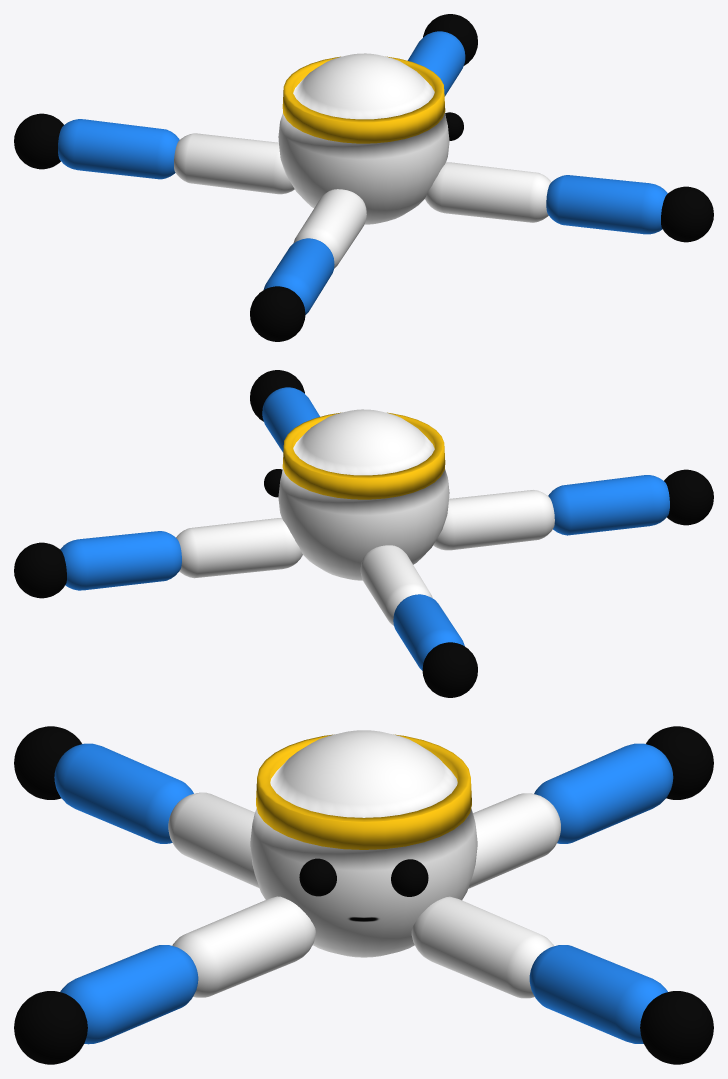
Rendered from smallCrawler.fbx.
3 renders of one model, top to bottom at view 1: azimuth 30°, elevation 25°; view 2: azimuth 150°, elevation 25°; view 3: azimuth 270°, elevation 25°, orthographic. The views are drawn at different scales.
Parts seen in each view (by area): view 1: Head.001, Thigh4.001, Shin1.001, Shin4.001, Thigh1.001, Thigh3.001, Shin3.001, Foot3.001, Foot4.001, Foot1.001, Shin2.001, Foot2.001; view 2: Head.001, Thigh2.001, Shin3.001, Shin2.001, Thigh3.001, Thigh1.001, Shin1.001, Foot1.001, Foot2.001, Foot3.001, Shin4.001, Foot4.001; view 3: Head.001, Thigh2.001, Thigh4.001, Shin3.001, Shin1.001, Shin2.001, Shin4.001, Thigh1.001, Thigh3.001, Foot2.001, Foot4.001, Foot1.001 (+3 smaller).
Boxes of the visible parts, x1=… form: Head.001: x1=278, y1=53, x2=449, y2=224; Thigh4.001: x1=425, y1=162, x2=551, y2=222; Shin1.001: x1=58, y1=119, x2=179, y2=179; Shin4.001: x1=546, y1=175, x2=667, y2=234; Thigh1.001: x1=174, y1=133, x2=294, y2=194; Thigh3.001: x1=293, y1=189, x2=366, y2=268; Shin3.001: x1=263, y1=238, x2=334, y2=314; Foot3.001: x1=250, y1=286, x2=305, y2=341; Foot4.001: x1=661, y1=186, x2=713, y2=242; Foot1.001: x1=14, y1=113, x2=63, y2=169; Shin2.001: x1=407, y1=31, x2=465, y2=96; Foot2.001: x1=423, y1=14, x2=477, y2=65; Head.001: x1=278, y1=409, x2=449, y2=580; Thigh2.001: x1=176, y1=518, x2=302, y2=578; Shin3.001: x1=548, y1=475, x2=669, y2=535; Shin2.001: x1=60, y1=531, x2=181, y2=590; Thigh3.001: x1=433, y1=490, x2=554, y2=550; Thigh1.001: x1=360, y1=545, x2=432, y2=625; Shin1.001: x1=393, y1=594, x2=464, y2=670; Foot1.001: x1=422, y1=642, x2=477, y2=697; Foot2.001: x1=14, y1=542, x2=66, y2=598; Foot3.001: x1=664, y1=469, x2=713, y2=525; Shin4.001: x1=262, y1=387, x2=319, y2=452; Foot4.001: x1=250, y1=370, x2=304, y2=421; Head.001: x1=250, y1=730, x2=477, y2=957; Thigh2.001: x1=411, y1=896, x2=553, y2=998; Thigh4.001: x1=172, y1=896, x2=315, y2=997; Shin3.001: x1=54, y1=743, x2=193, y2=843; Shin1.001: x1=534, y1=743, x2=673, y2=843; Shin2.001: x1=529, y1=945, x2=667, y2=1043; Shin4.001: x1=60, y1=945, x2=198, y2=1044; Thigh1.001: x1=468, y1=793, x2=560, y2=888; Thigh3.001: x1=168, y1=792, x2=259, y2=888; Foot2.001: x1=640, y1=991, x2=713, y2=1064; Foot4.001: x1=14, y1=991, x2=87, y2=1064; Foot1.001: x1=646, y1=726, x2=713, y2=799.
Size of the model in its own units: 6.15 by 2 by 6.15.
1 material, 1 textured.
